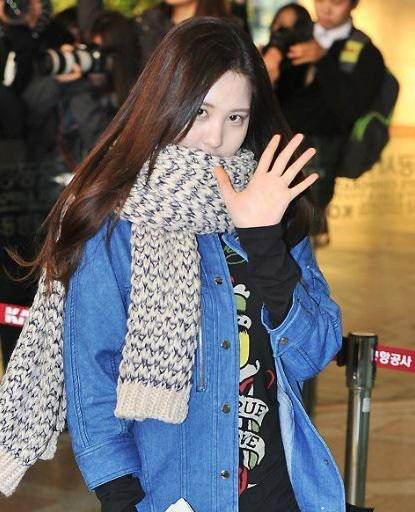NONE: (314, 1, 356, 29)
WRONG: (175, 88, 262, 175)
